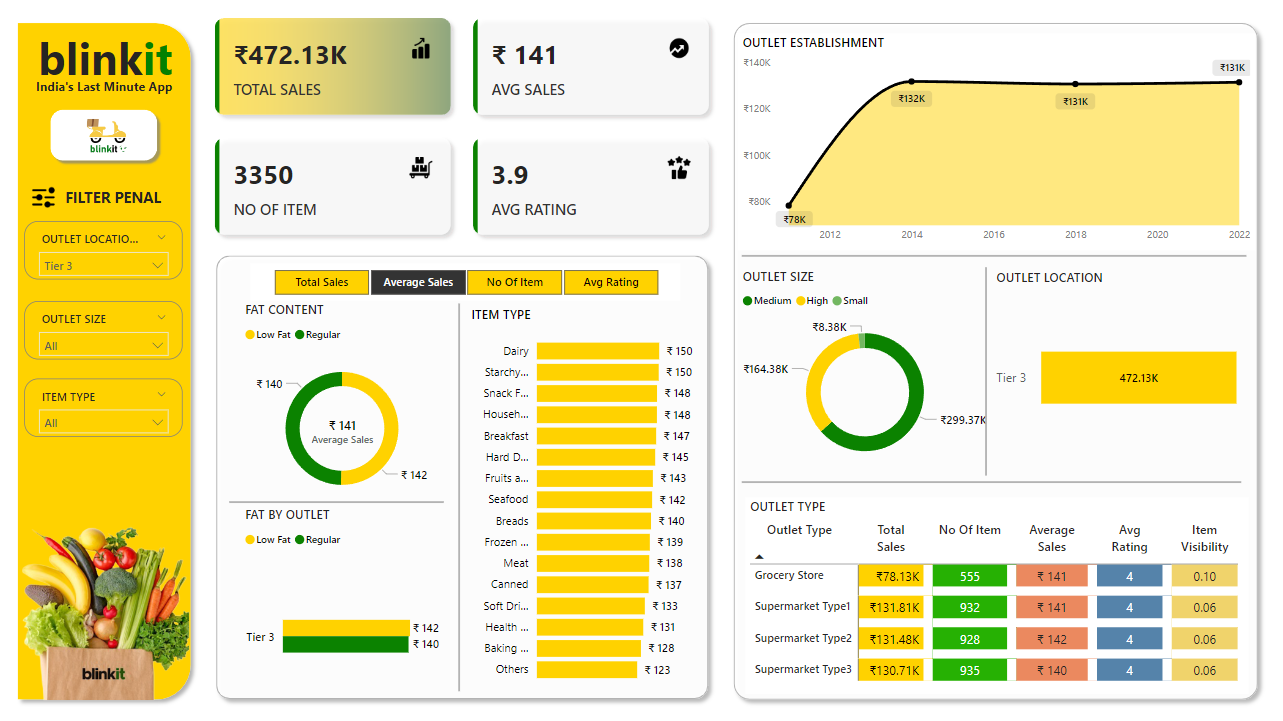

Layout of this report page (visuals, bound fields, positions):
{"tool":"powerbi","page":{"name":"Page 1","canvas":[1400,800],"ordinal":0},"visuals":[{"type":"shape","box":[22.8,25.5,205.1,749.3],"z":0},{"type":"textbox","box":[41.6,33.5,170.2,87.1],"z":1000},{"type":"textbox","box":[40.2,89.8,170.2,32.2],"z":2000},{"type":"cardVisual","fields":{"Data":["BlinkIT Grocery Data.Total Sales","BlinkIT Grocery Data.Average Sales","BlinkIT Grocery Data.No Of Item","BlinkIT Grocery Data.Avg Rating"]},"box":[227.9,12.1,569.7,269.4],"z":3000},{"type":"shape","box":[237.3,277.5,549.6,497.3],"z":4000},{"type":"donutChart","title":"FAT CONTENT","fields":{"Y":["BlinkIT Grocery Data.Average Sales"],"Category":["BlinkIT Grocery Data.Item Fat Content"]},"box":[273.5,335.1,219.8,230.6],"z":5000},{"type":"slicer","fields":{"Values":["Matrics.Matrics"]},"box":[284.2,294.9,465.1,40.2],"z":6000},{"type":"cardVisual","fields":{"Data":["BlinkIT Grocery Data.Average Sales"]},"box":[325.7,443.7,115.3,53.6],"z":7000},{"type":"clusteredBarChart","title":"FAT BY OUTLET","fields":{"Y":["BlinkIT Grocery Data.Average Sales"],"Category":["BlinkIT Grocery Data.Outlet Location Type"],"Series":["BlinkIT Grocery Data.Item Fat Content"]},"box":[273.5,556.3,219.8,230.6],"z":8000},{"type":"shape","box":[261.4,533.5,231.9,37.5],"z":9000},{"type":"shape","box":[496,337.8,26.8,419.6],"z":10000},{"type":"barChart","title":"ITEM TYPE","fields":{"Y":["BlinkIT Grocery Data.Average Sales"],"Category":["BlinkIT Grocery Data.Item Type"]},"box":[517.4,340.5,250.7,416.9],"z":11000},{"type":"shape","box":[797.6,25.5,584.5,749.3],"z":12000},{"type":"lineChart","title":"OUTLET ESTABLISHMENT","fields":{"Category":["BlinkIT Grocery Data.Outlet Establishment Year"],"Y":["BlinkIT Grocery Data.Total Sales"]},"box":[811,45.6,559,234.6],"z":13000},{"type":"shape","box":[815,268.1,545.6,37.5],"z":14000},{"type":"donutChart","title":"OUTLET SIZE","fields":{"Y":["BlinkIT Grocery Data.Total Sales"],"Category":["BlinkIT Grocery Data.Outlet Size"]},"box":[811,298.9,274.8,225.2],"z":15000},{"type":"shape","box":[1067,298.9,22.8,225.2],"z":16000},{"type":"funnel","title":"OUTLET LOCATION","fields":{"Y":["Sum(BlinkIT Grocery Data.Sales)"],"Category":["BlinkIT Grocery Data.Outlet Location Type"]},"box":[1085.8,300.3,274.8,218.5],"z":17000},{"type":"shape","box":[815,512.1,540.2,37.5],"z":18000},{"type":"pivotTable","title":"OUTLET TYPE","fields":{"Rows":["BlinkIT Grocery Data.Outlet Type"],"Values":["BlinkIT Grocery Data.Total Sales","BlinkIT Grocery Data.No Of Item","BlinkIT Grocery Data.Average Sales","BlinkIT Grocery Data.Avg Rating","Avg(BlinkIT Grocery Data.Item Visibility)"]},"box":[819,546.9,544.2,213.1],"z":19000},{"type":"slicer","fields":{"Values":["BlinkIT Grocery Data.Outlet Location Type"]},"box":[38.9,248,171.6,63],"z":19001},{"type":"slicer","fields":{"Values":["BlinkIT Grocery Data.Outlet Size"]},"box":[38.9,335.1,171.6,63],"z":19002},{"type":"slicer","fields":{"Values":["BlinkIT Grocery Data.Item Type"]},"box":[38.9,419.6,171.6,63],"z":19003},{"type":"textbox","box":[77.7,206.4,122,32.2],"z":19004},{"type":"image","box":[41.6,202.4,36.2,40.2],"z":19005},{"type":"shape","box":[60.3,122,128.7,68.4],"z":19006},{"type":"image","box":[71,105.9,111.3,105.9],"z":19007},{"type":"image","box":[20,562.2,212.2,210],"z":19008}]}

Visuals, with their boxes in screenshot pixels (x1, y1, x2, y2), scaled from the page's 1400x800 canvas onto the 1283x721 screenshot:
shape: bbox=(21, 23, 209, 698)
textbox: bbox=(38, 30, 194, 109)
textbox: bbox=(37, 81, 193, 110)
cardVisual - BlinkIT Grocery Data.Total Sales x BlinkIT Grocery Data.Average Sales: bbox=(209, 11, 731, 254)
shape: bbox=(217, 250, 721, 698)
"FAT CONTENT" donutChart: bbox=(251, 302, 452, 510)
slicer - Matrics.Matrics: bbox=(260, 266, 687, 302)
cardVisual - BlinkIT Grocery Data.Average Sales: bbox=(298, 400, 404, 448)
"FAT BY OUTLET" clusteredBarChart: bbox=(251, 501, 452, 709)
shape: bbox=(240, 481, 452, 515)
shape: bbox=(455, 304, 479, 683)
"ITEM TYPE" barChart: bbox=(474, 307, 704, 683)
shape: bbox=(731, 23, 1267, 698)
"OUTLET ESTABLISHMENT" lineChart: bbox=(743, 41, 1256, 253)
shape: bbox=(747, 242, 1247, 275)
"OUTLET SIZE" donutChart: bbox=(743, 269, 995, 472)
shape: bbox=(978, 269, 999, 472)
"OUTLET LOCATION" funnel: bbox=(995, 271, 1247, 468)
shape: bbox=(747, 462, 1242, 495)
"OUTLET TYPE" pivotTable: bbox=(751, 493, 1249, 685)
slicer - BlinkIT Grocery Data.Outlet Location Type: bbox=(36, 224, 193, 280)
slicer - BlinkIT Grocery Data.Outlet Size: bbox=(36, 302, 193, 359)
slicer - BlinkIT Grocery Data.Item Type: bbox=(36, 378, 193, 435)
textbox: bbox=(71, 186, 183, 215)
image: bbox=(38, 182, 71, 219)
shape: bbox=(55, 110, 173, 172)
image: bbox=(65, 95, 167, 191)
image: bbox=(18, 507, 213, 696)
